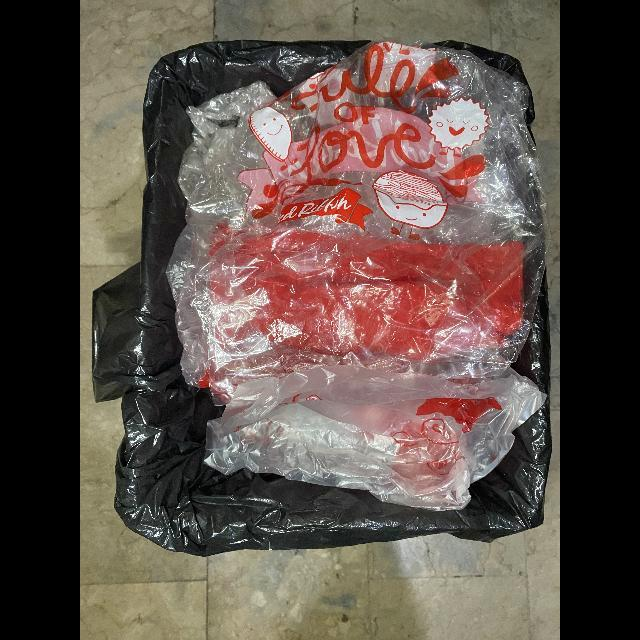plastic_bag: (167, 42, 544, 405), (203, 349, 546, 512)
